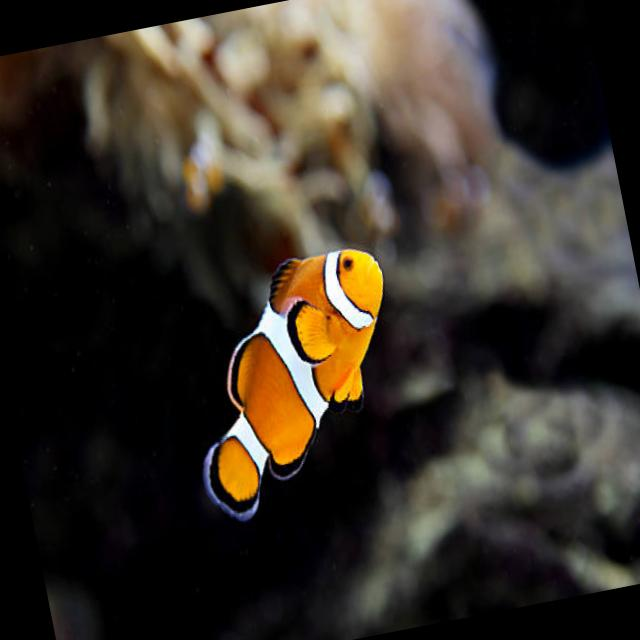ClownFish: (162, 238, 425, 530)
